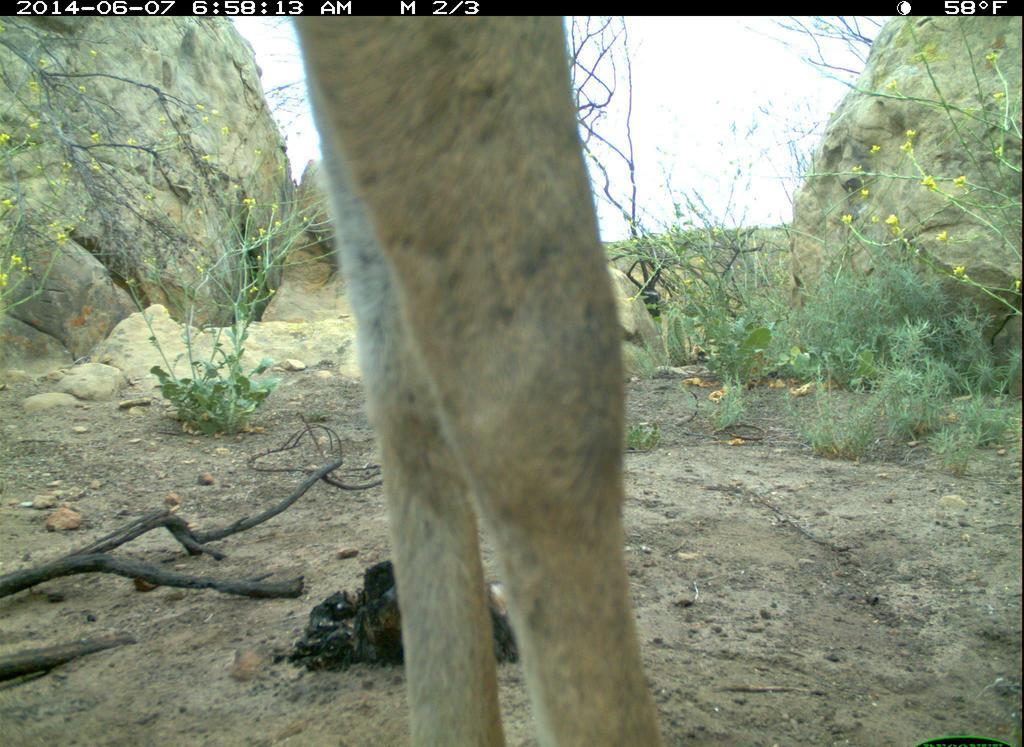deer: (262, 15, 684, 739)
